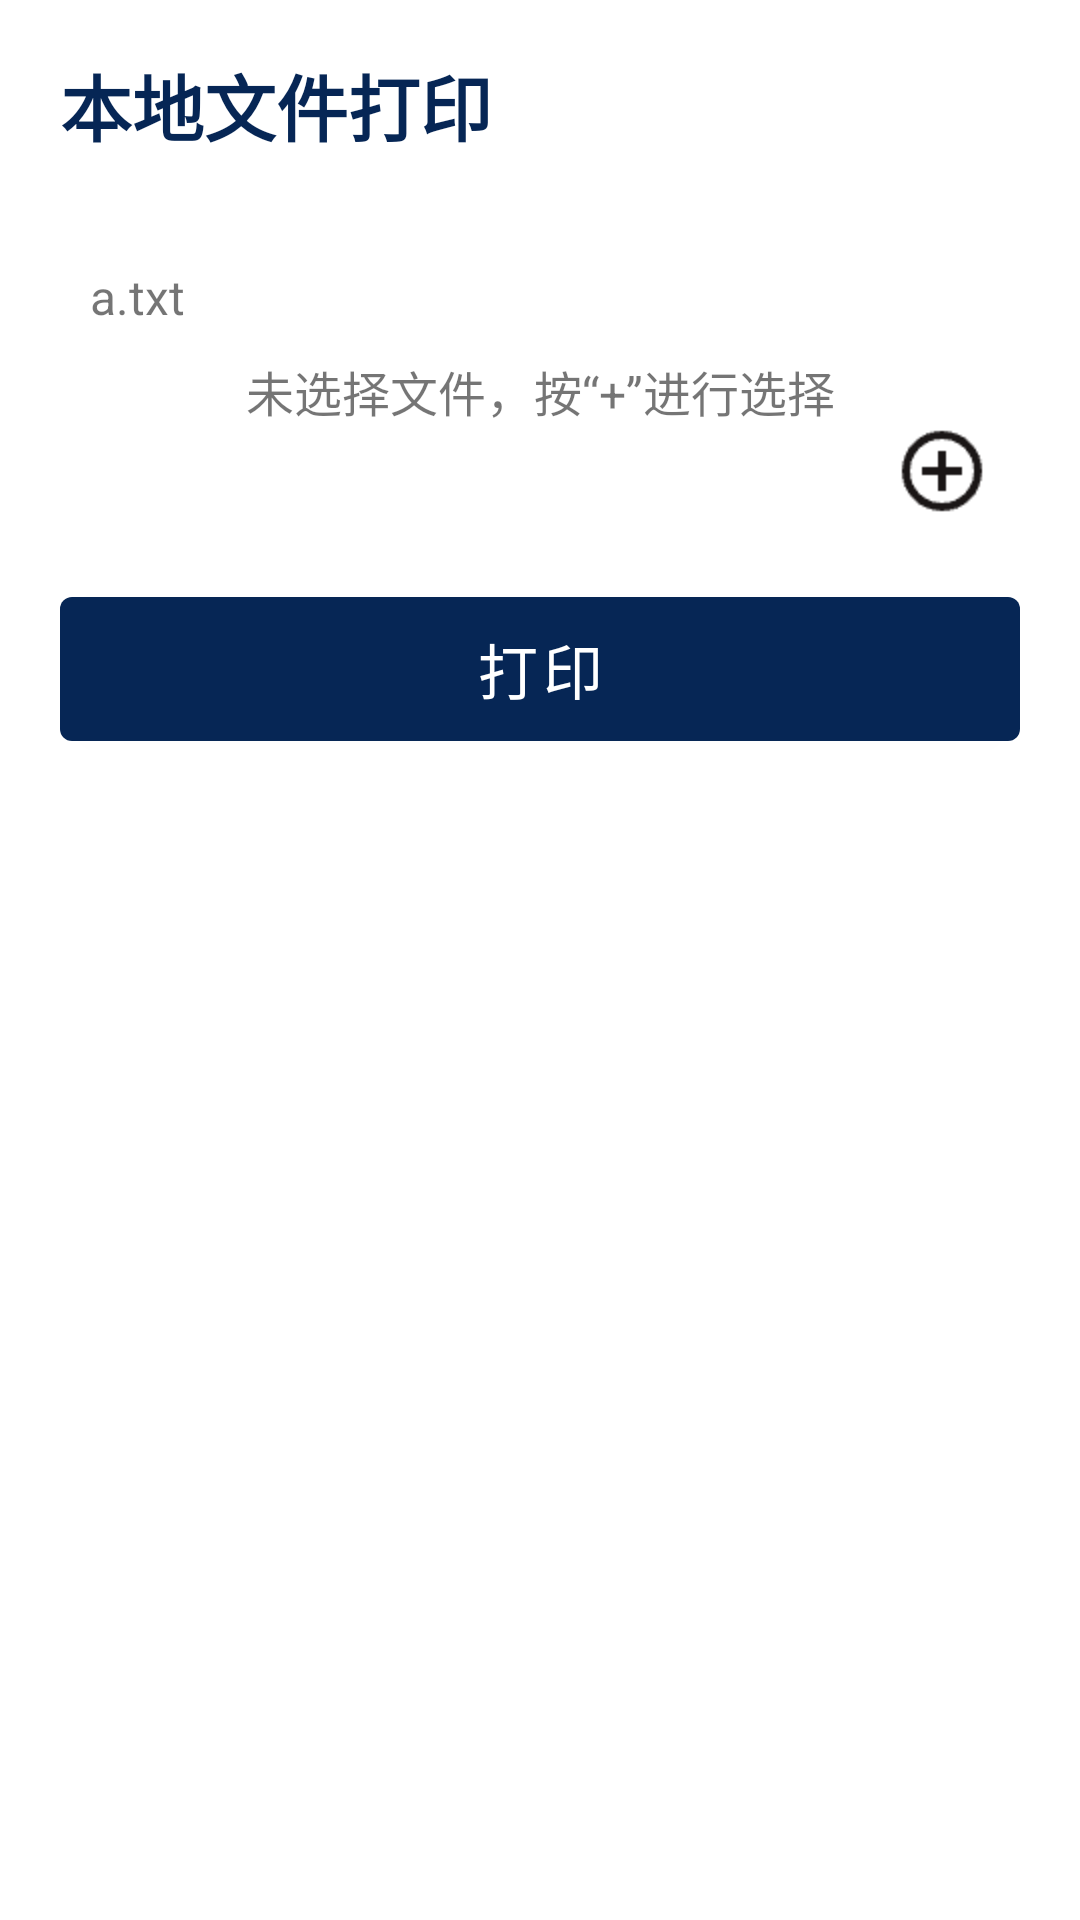

Icons on this 1080w x 1920h Android screen, each with the point to tap as point (x, y):
add: point (942, 471)
